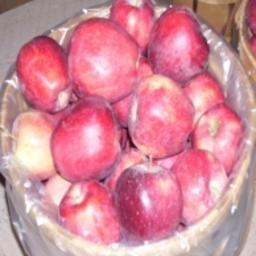apple: (67, 16, 140, 100), (51, 103, 121, 186), (144, 6, 210, 85), (128, 77, 192, 156), (165, 148, 227, 226), (115, 165, 181, 236), (14, 34, 72, 112), (58, 182, 122, 243), (190, 104, 247, 172), (11, 110, 59, 179), (180, 73, 227, 125)
